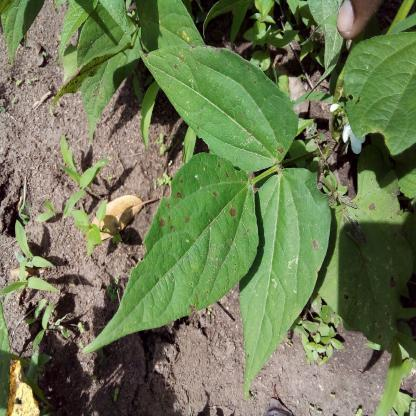Beans_Angular_LeafSpot: (84, 139, 255, 362), (242, 164, 324, 381), (157, 40, 289, 172), (328, 175, 404, 351)
